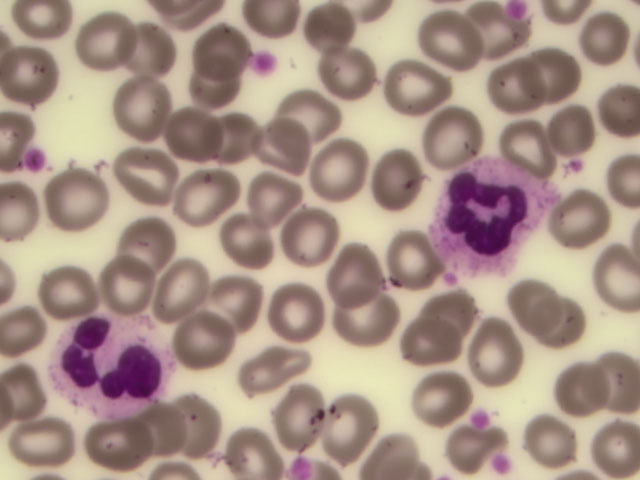Platelets: (470, 409, 494, 432), (23, 149, 48, 171), (292, 456, 314, 480), (253, 53, 276, 73), (502, 1, 529, 18), (493, 452, 512, 473)
RBC: (83, 9, 137, 64), (125, 21, 179, 76), (118, 77, 172, 132), (7, 50, 61, 105), (21, 1, 75, 56), (157, 106, 211, 161), (204, 114, 258, 169), (255, 116, 309, 171), (281, 86, 335, 141), (188, 65, 242, 120), (193, 20, 247, 75), (326, 47, 380, 102), (432, 106, 486, 161), (390, 55, 444, 110), (428, 13, 482, 68), (493, 59, 547, 114), (520, 40, 574, 95), (579, 8, 633, 63), (586, 78, 640, 133), (541, 103, 595, 158), (498, 113, 552, 168), (371, 150, 425, 205), (314, 140, 368, 195), (291, 212, 345, 267), (255, 176, 309, 231), (228, 210, 282, 265), (176, 173, 230, 228), (124, 149, 178, 204), (43, 173, 97, 228), (119, 211, 173, 266), (100, 266, 154, 321), (39, 268, 93, 323), (5, 367, 59, 422), (17, 410, 71, 465), (81, 418, 135, 473), (125, 400, 179, 455), (166, 395, 220, 450), (176, 312, 230, 367), (203, 275, 257, 330), (155, 259, 209, 314), (268, 284, 322, 339), (345, 300, 399, 355), (324, 248, 378, 303), (383, 239, 437, 294), (430, 280, 484, 335), (408, 317, 462, 372), (478, 322, 532, 377), (504, 270, 558, 325), (540, 302, 594, 357), (565, 185, 619, 240), (586, 245, 640, 300), (586, 353, 640, 408), (554, 360, 608, 415), (523, 415, 577, 470), (586, 425, 640, 480), (402, 372, 456, 427), (426, 422, 480, 477), (352, 425, 406, 480), (323, 402, 377, 457), (286, 387, 340, 442), (226, 425, 280, 480), (240, 345, 294, 400), (305, 1, 359, 55), (1, 301, 54, 356)
WBC: (435, 155, 551, 276), (55, 313, 176, 415)
